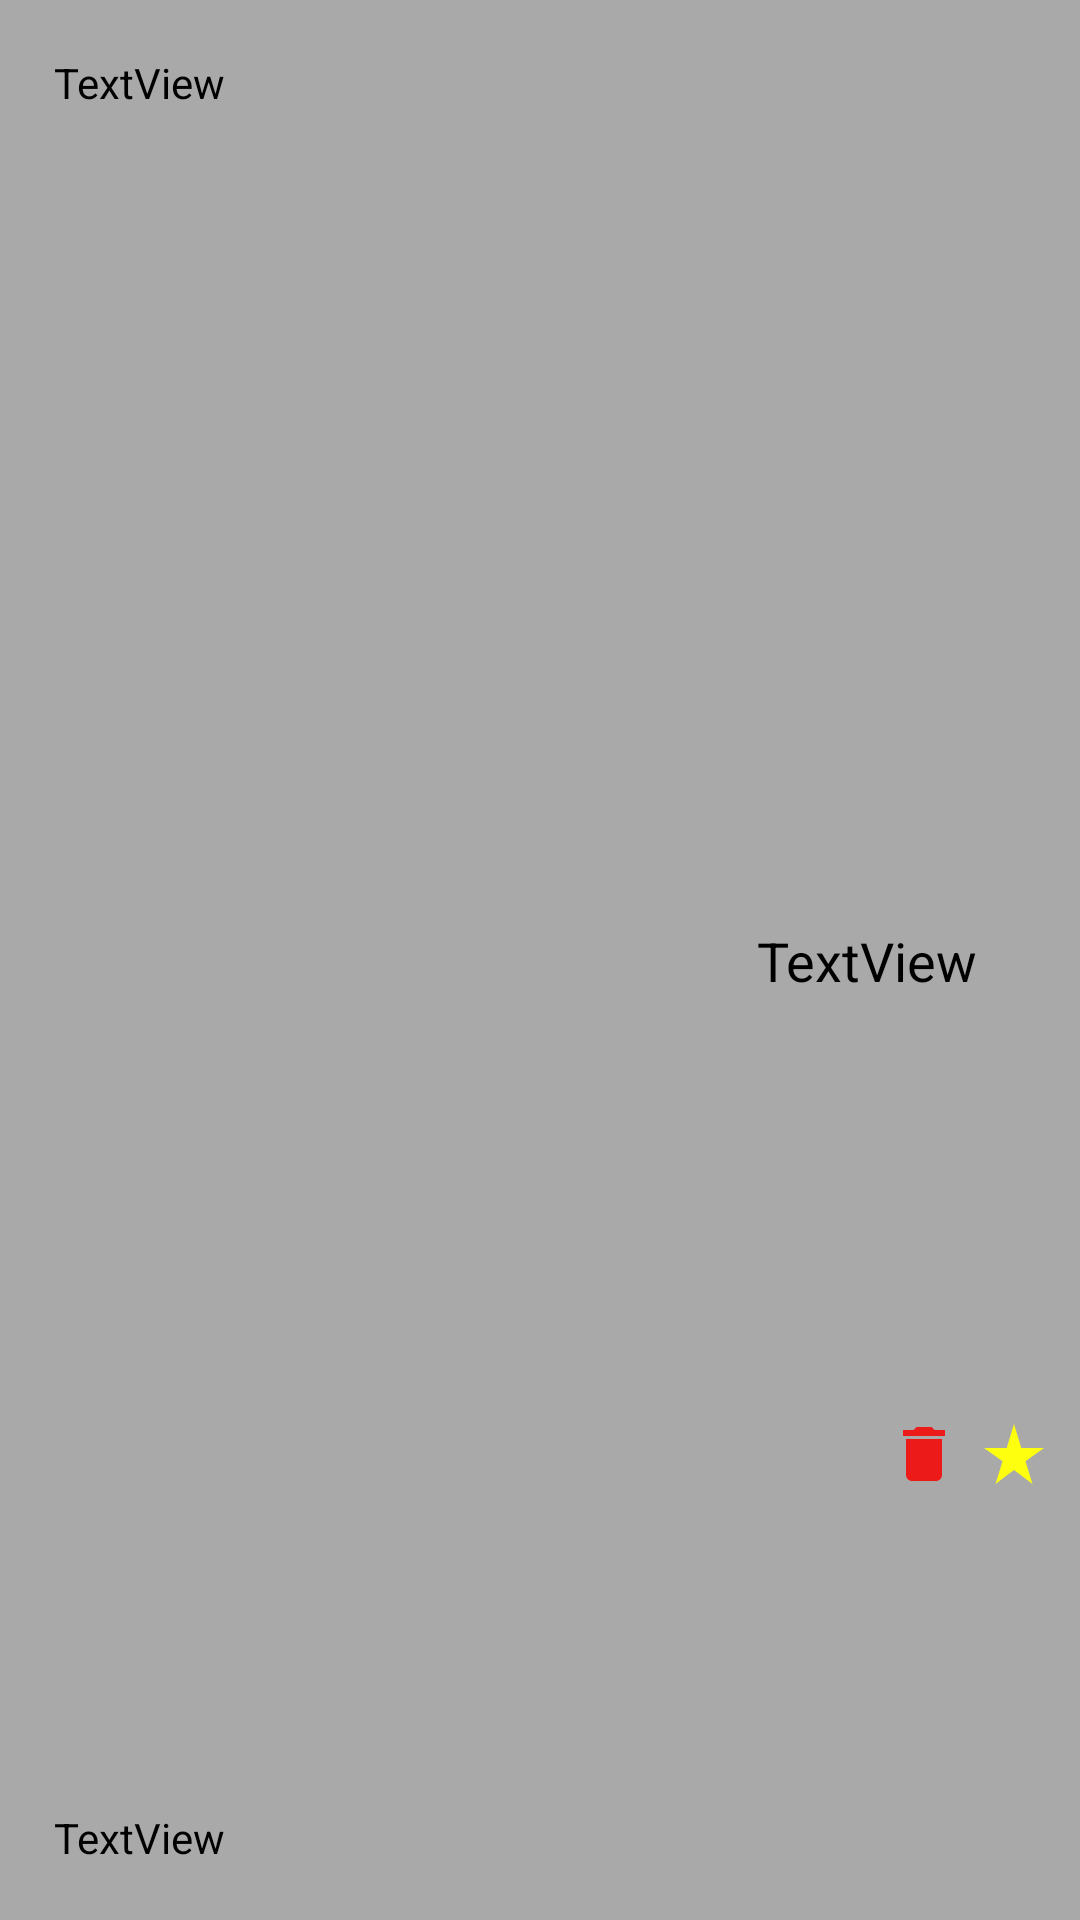

Icon bounding boxes for this 1080x1920 phone screenshot, format (x1, y1, x2, y2):
delete: (903, 1427, 945, 1481)
star rate: (984, 1425, 1044, 1484)
